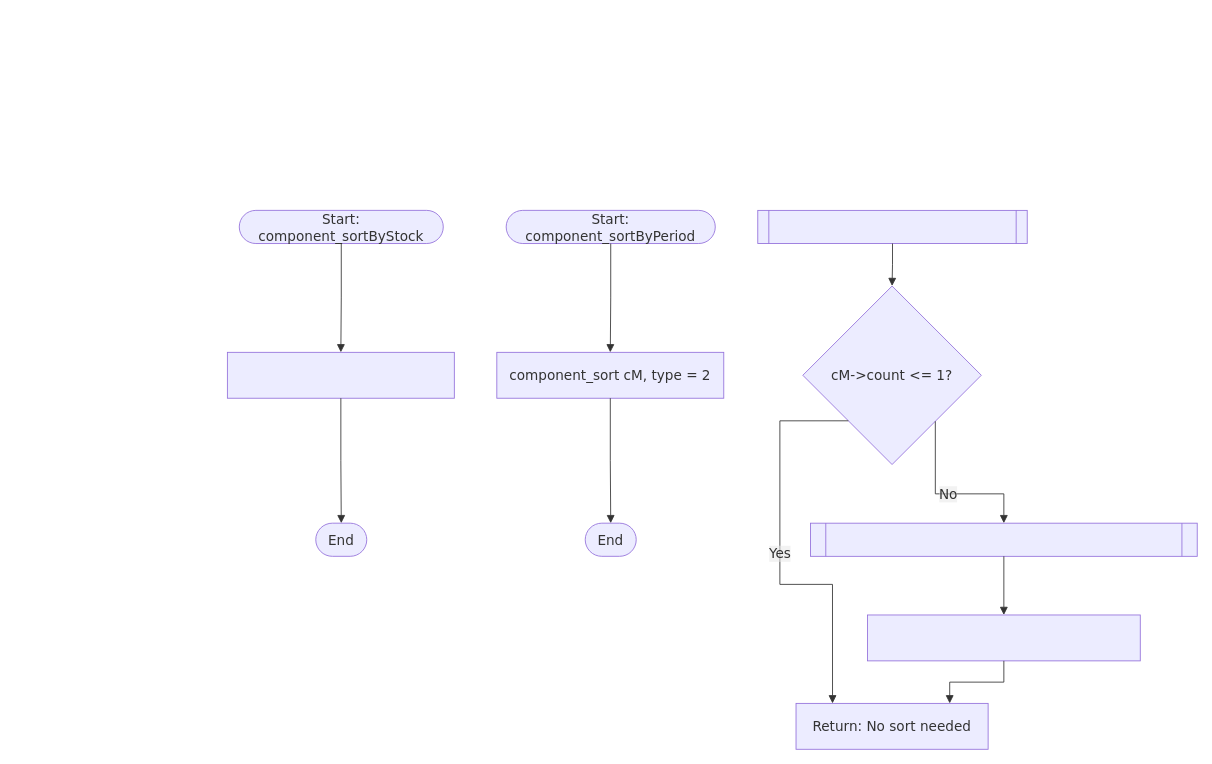
The diagram is 1212 pixels wide and 764 high, and some of its shapes have lost their labels. The box of each missing label's shape, as (x1, y1, x2, y2) in pixels:
component_sort cM, type = 1: (227, 351, 454, 398)
Core Process: component_sort cM, type: (757, 210, 1027, 244)
Execute: mergeSortRecursive components, 0, count-1, type: (810, 522, 1197, 556)
Print: Sorting completed successfully: (867, 614, 1140, 661)
